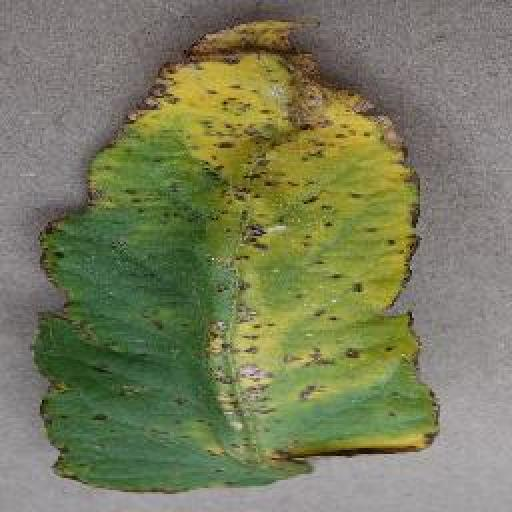Bacterial Spot: (28, 11, 440, 497)
